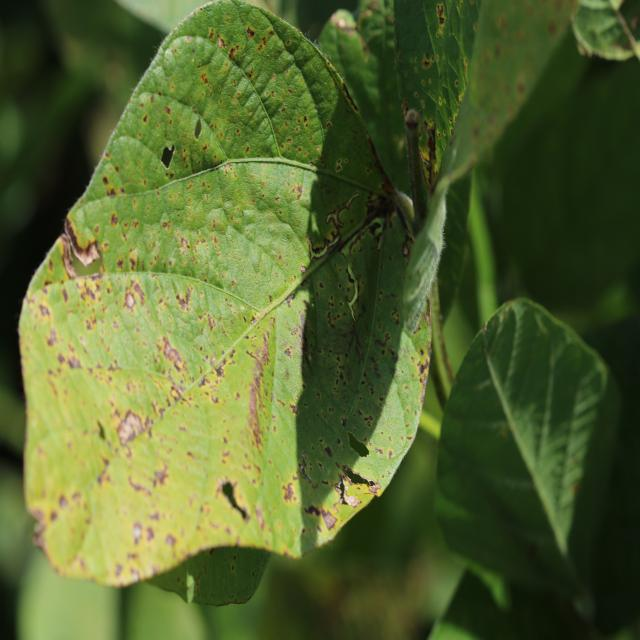Bacterial_Blight: (246, 331, 275, 462), (59, 216, 105, 278), (332, 469, 374, 513), (116, 400, 148, 450), (220, 481, 245, 519), (160, 336, 186, 371), (346, 430, 370, 457), (434, 4, 447, 39), (175, 287, 193, 310), (160, 143, 175, 169), (153, 464, 169, 486), (321, 509, 337, 530), (281, 482, 297, 503), (46, 327, 59, 348), (299, 454, 310, 478), (67, 353, 82, 370), (192, 118, 203, 141), (132, 522, 143, 542), (124, 292, 136, 309), (229, 44, 240, 60), (217, 33, 227, 49), (215, 363, 225, 377)
Soybean: (20, 0, 437, 604)
